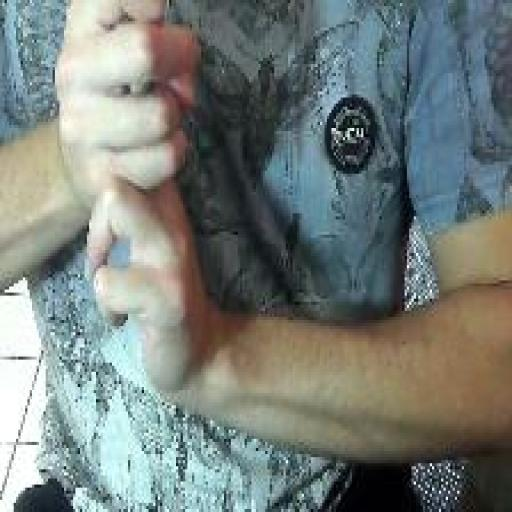Ne -rat-: (50, 0, 215, 424)
